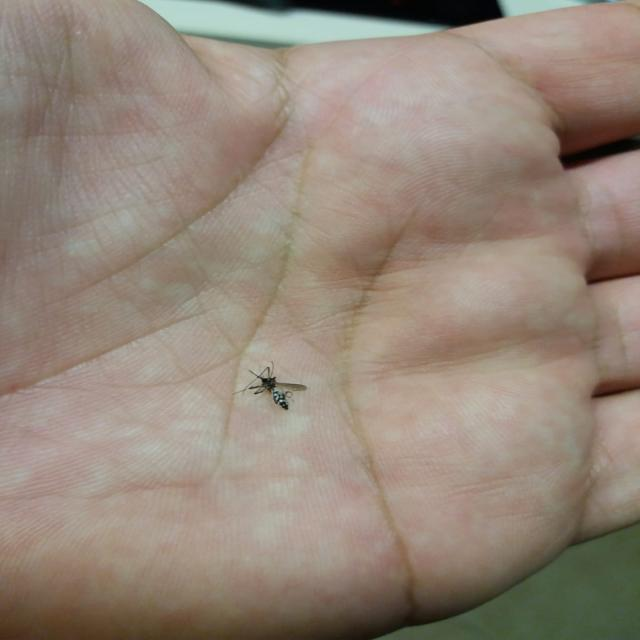albopictus: (235, 358, 309, 412)
